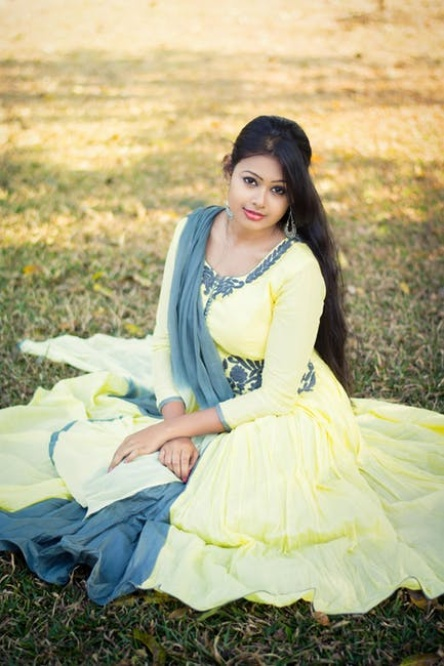face: (230, 154, 290, 229)
